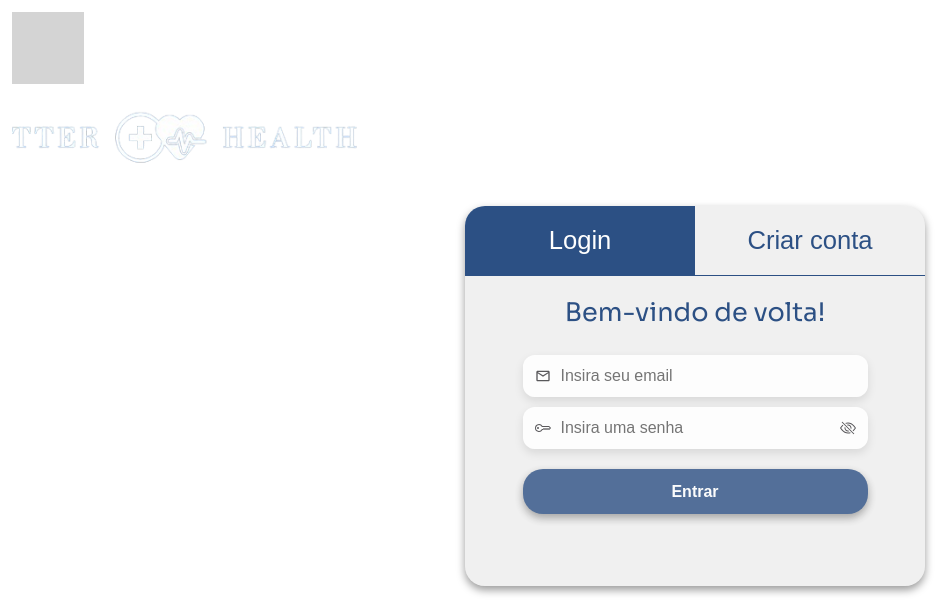
Test case: AuthenticationView Component › should return to login form when clicking "Login"
Click the button "Criar conta" at (810,240), box [695, 206, 925, 275]
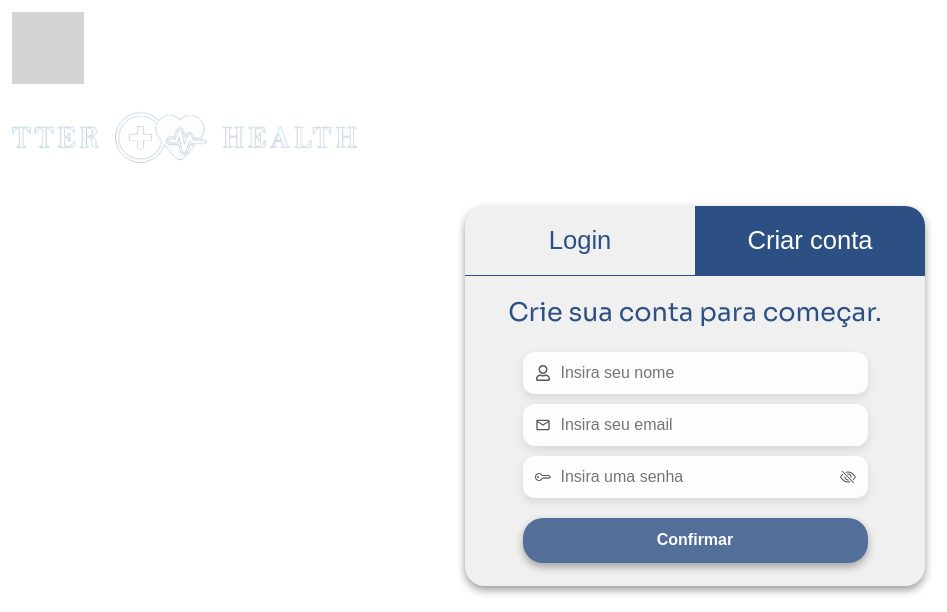
Click the button "Login" at (580,240), box [465, 206, 695, 275]
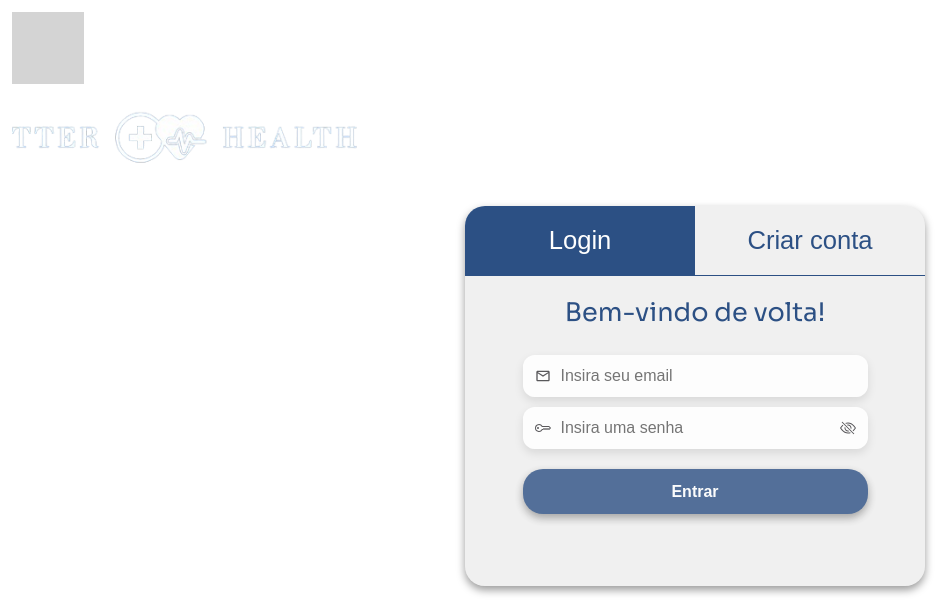
Check: the heading "Bem-vindo de volta!" is shown, box [565, 296, 825, 328]
Check: the field with placeholder "Insira seu email" is shown, box [560, 367, 856, 385]
Check: the password field with placeholder "Insira uma senha" is shown, box [560, 419, 830, 437]
